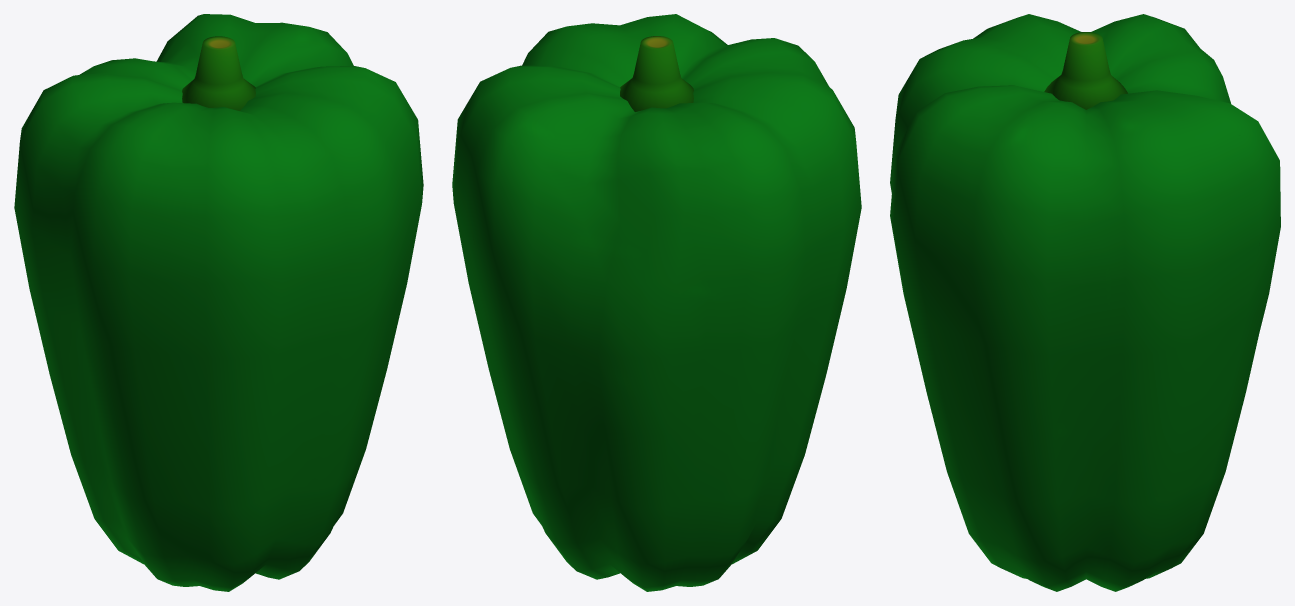
The model's file is greenpepperqaq.fbx.
The picture shows the model from 3 angles, left to right: view 1: azimuth 30°, elevation 25°; view 2: azimuth 150°, elevation 25°; view 3: azimuth 270°, elevation 25°; orthographic projection.
Parts seen in each view (by area): view 1: Sphere.004; view 2: Sphere.004; view 3: Sphere.004.
Part boxes in pixels (<box>): Sphere.004: <box>14,14,423,591</box>; Sphere.004: <box>452,14,861,591</box>; Sphere.004: <box>890,14,1280,591</box>.
Bounding box in the file's own units: 224 × 329 × 223.
